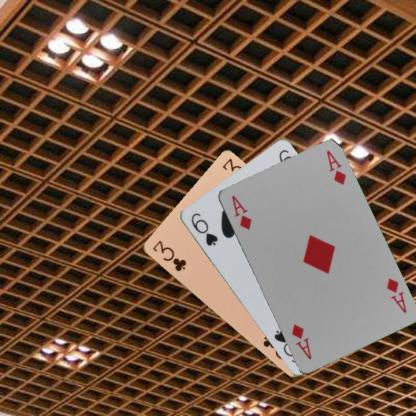3c: (150, 238, 188, 272)
6s: (188, 210, 219, 247)
Ad: (383, 275, 408, 314), (229, 193, 253, 231)
